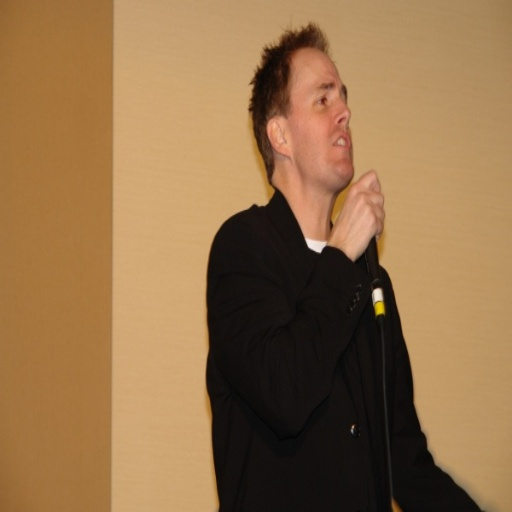hand: (323, 165, 389, 272)
